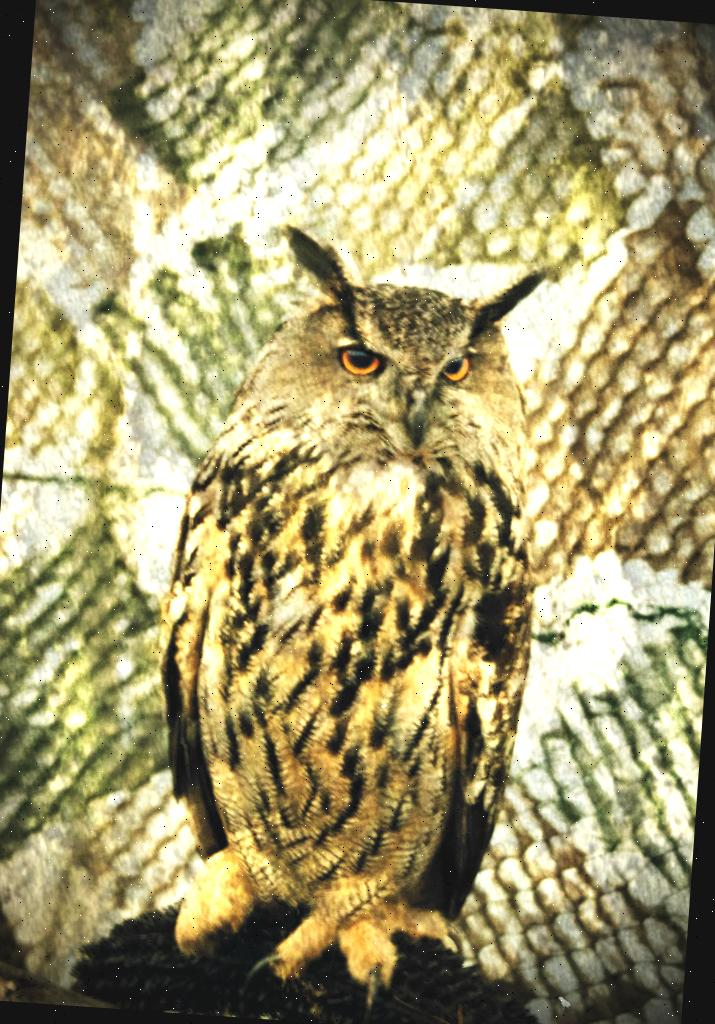Owl: (118, 210, 582, 1008)
